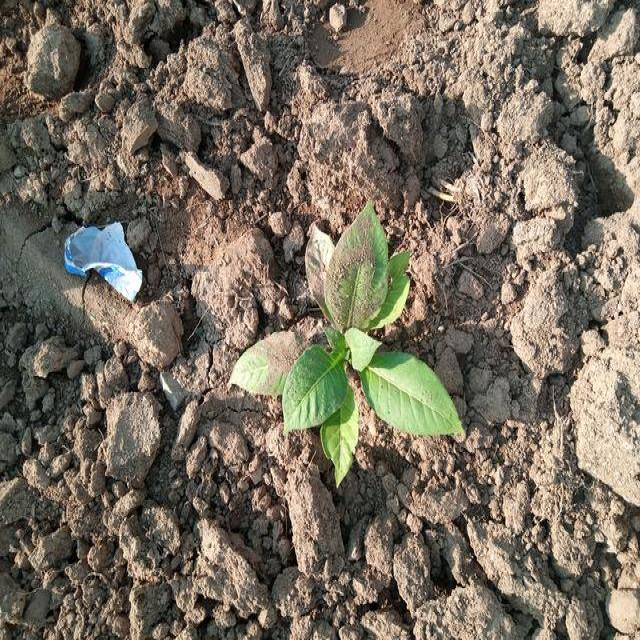crop: (250, 231, 458, 466)
